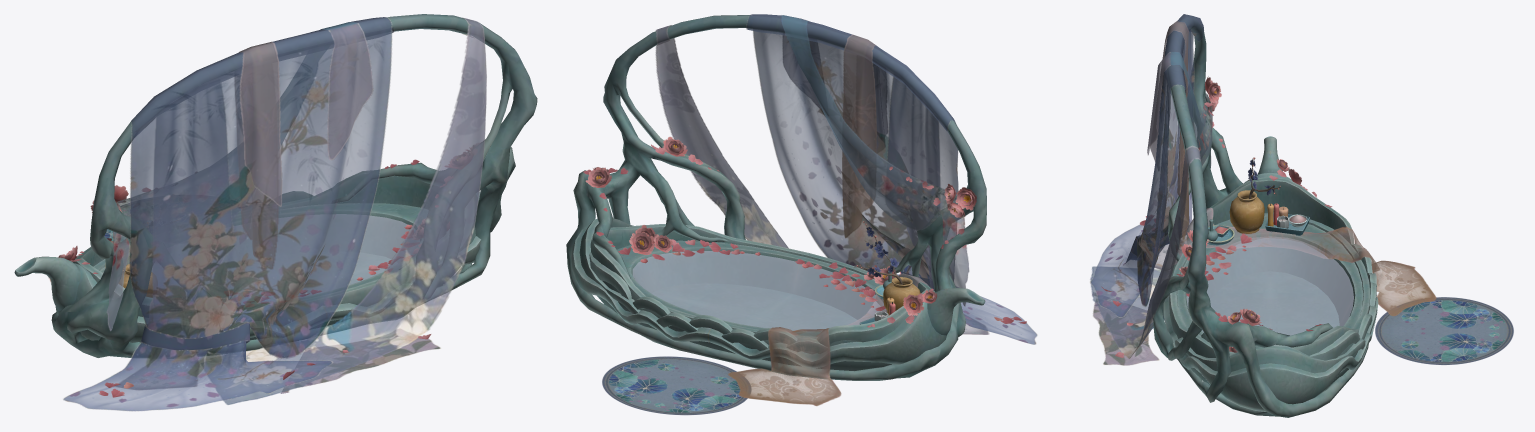
File: furniture-20844.glb
The picture shows the model from 3 angles, left to right: view 1: azimuth 30°, elevation 25°; view 2: azimuth 150°, elevation 25°; view 3: azimuth 270°, elevation 25°; orthographic projection. The views are drawn at different scales.
Bounding box in the file's own units: 7.45 × 4.44 × 6.21.
Materials: 4 (3 with a texture image).
